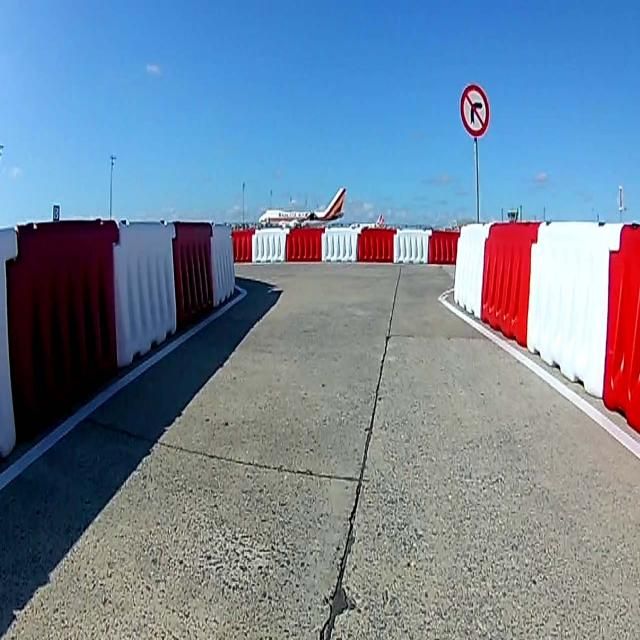sagadonulmez: (459, 85, 489, 138)
